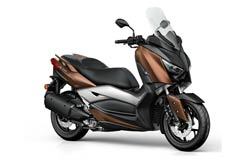motorcycle: (43, 29, 209, 151)
